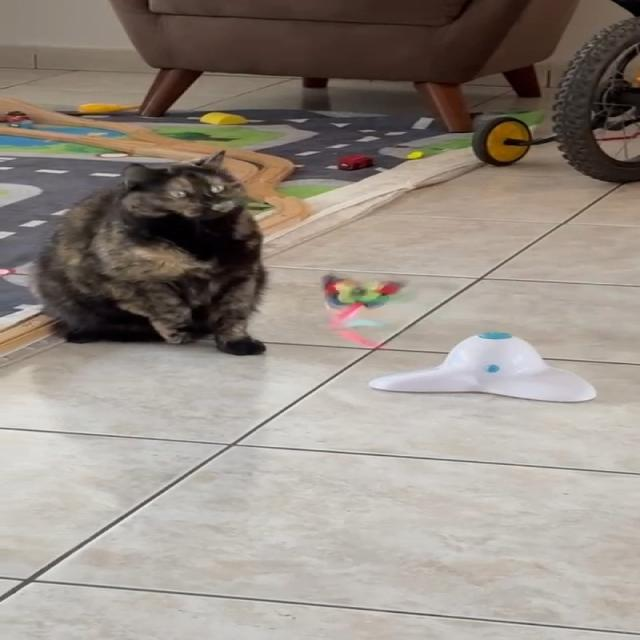authorized: (29, 148, 268, 356)
